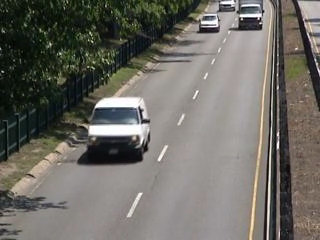car: (199, 13, 221, 33), (218, 1, 236, 12)
truck: (82, 95, 154, 164), (236, 1, 267, 32)
